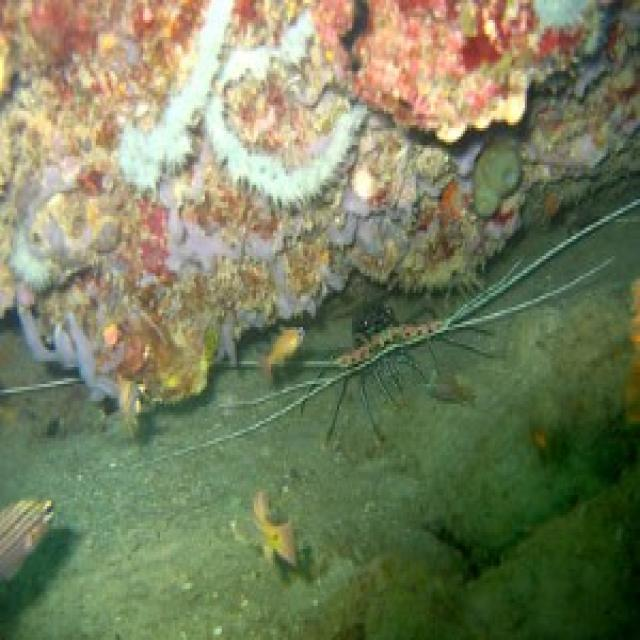lobsters: (224, 252, 578, 475)
